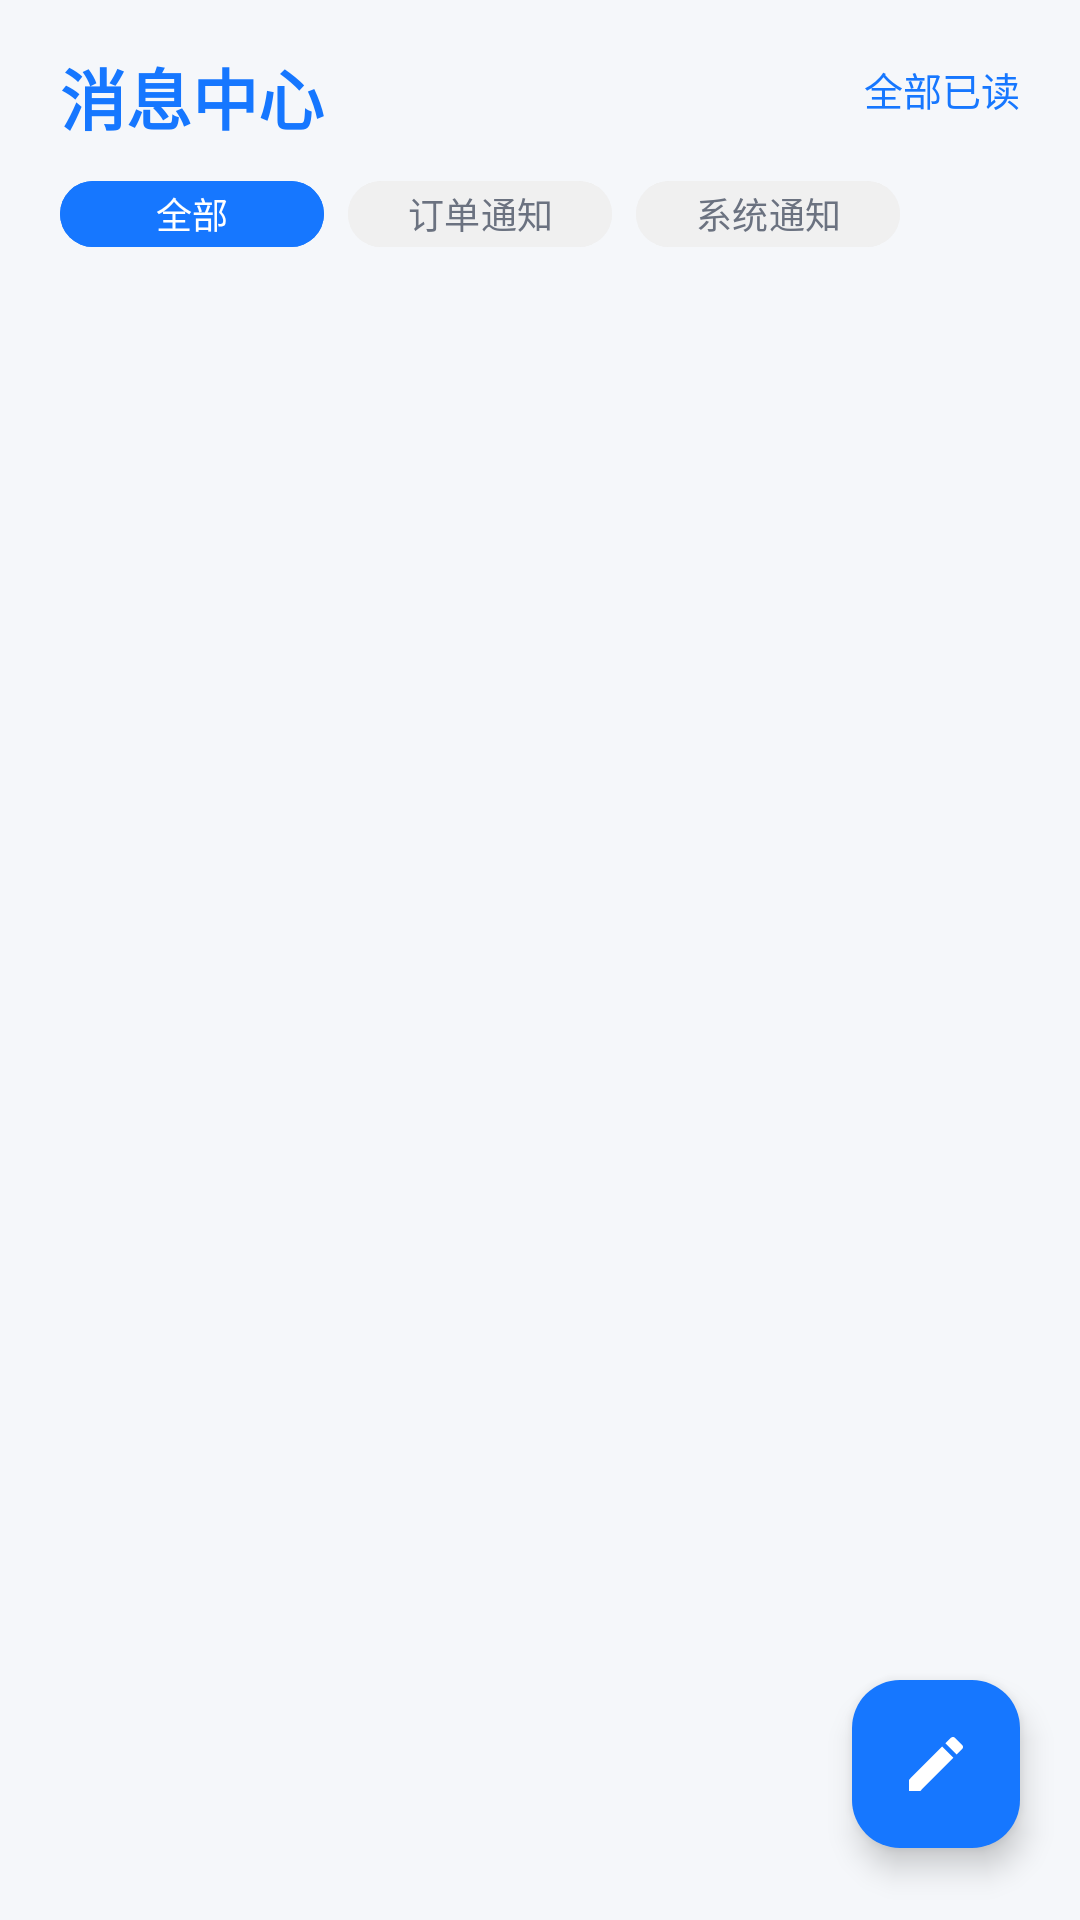

Named icons in this screenshot (1080w x 1920h) and their bounding boxes, (x1, y1, x2, y2):
edit: (852, 1680, 1020, 1848)
